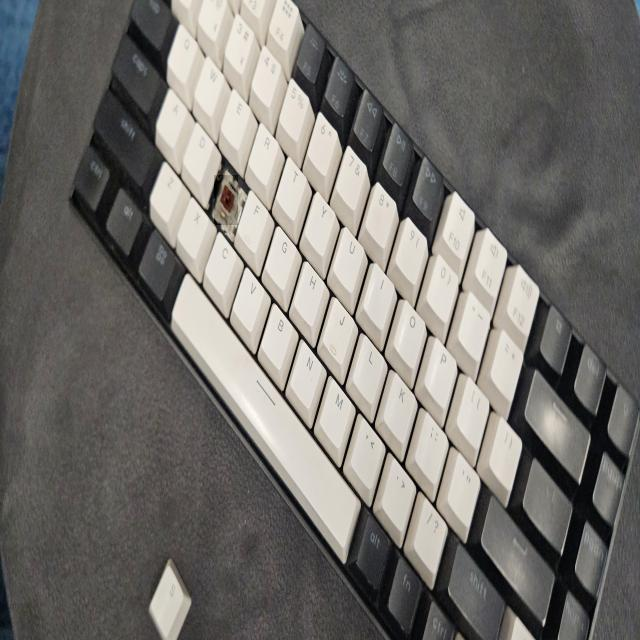C: (214, 176, 238, 226)
